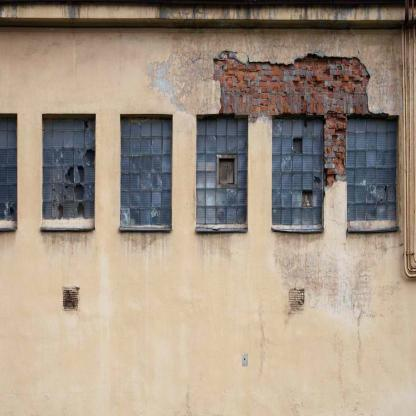Building Outline: (0, 0, 416, 415)
Facade: (0, 0, 416, 415)
Floor: (0, 0, 416, 415)
Window: (42, 114, 96, 227), (120, 114, 173, 227), (347, 114, 399, 227), (196, 114, 248, 227), (272, 114, 324, 227), (1, 113, 18, 226)
